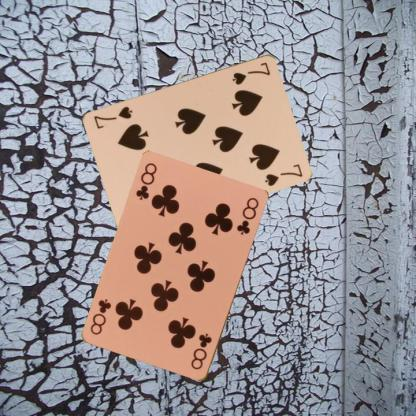7s: (230, 59, 272, 86)
8c: (188, 330, 214, 372), (134, 161, 158, 202)
